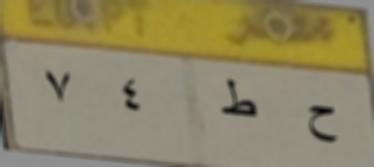4: (121, 75, 142, 113)
7: (38, 63, 74, 106)
7aa: (304, 100, 340, 146)
Taa: (216, 75, 260, 124)
